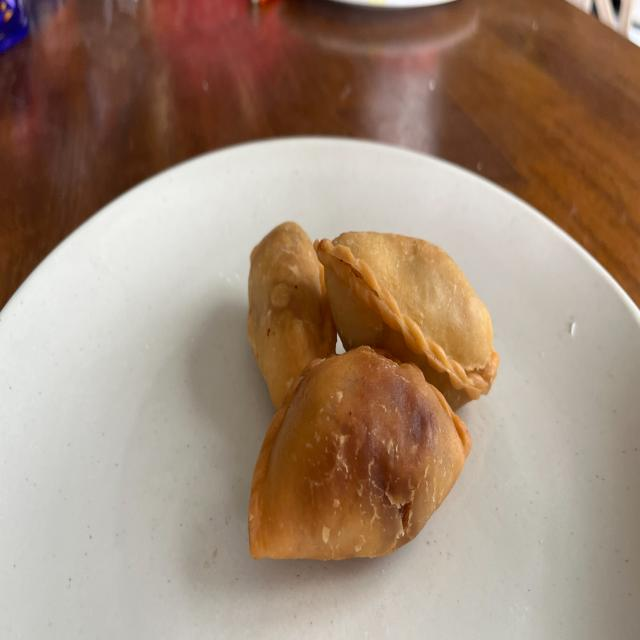karipap: (315, 231, 499, 411), (248, 222, 336, 409)
